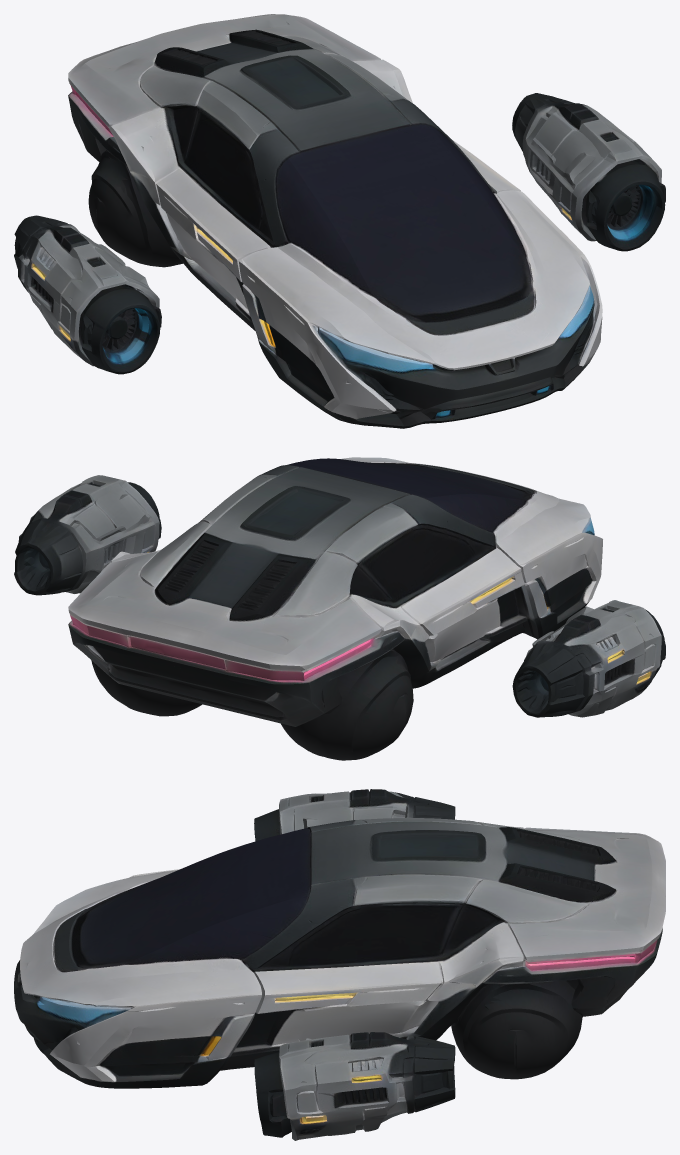
Rendered from scene-detail.glb.
3 views of the same model, one above another, from view 1: azimuth 30°, elevation 25°; view 2: azimuth 150°, elevation 25°; view 3: azimuth 270°, elevation 25° (orthographic). The views are drawn at different scales.
Visible parts, largest first — view 1: model; view 2: model; view 3: model.
Boxes of the visible parts, left/top/right/bottom form: model: left=14, top=14, right=665, bottom=428; model: left=14, top=457, right=665, bottom=760; model: left=14, top=789, right=665, bottom=1140.
Size of the model in its own units: 1.9 by 0.5963 by 1.87.
Materials: 1 (1 with a texture image).
